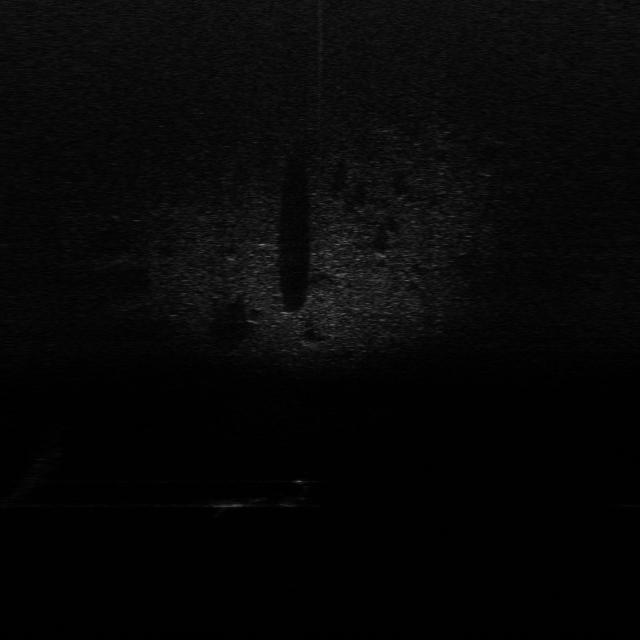square cage: (208, 488, 267, 516)
tyre: (282, 472, 317, 513)
